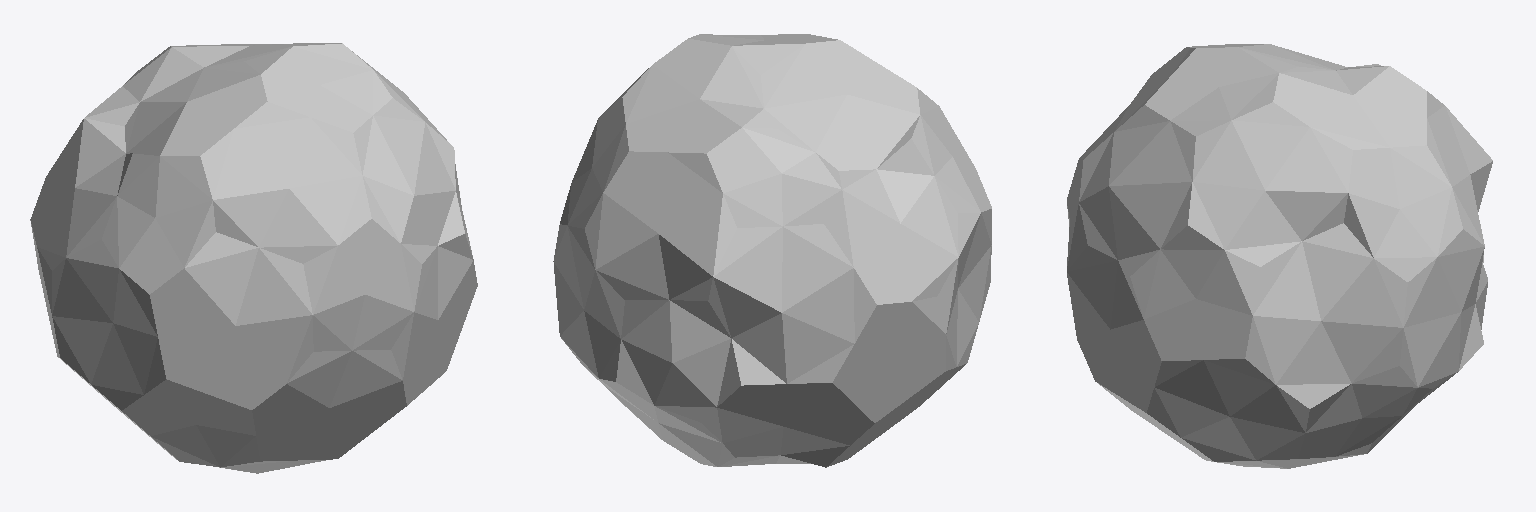
File: planet 4.obj
The picture shows the model from 3 angles: view 1: azimuth 30°, elevation 25°; view 2: azimuth 150°, elevation 25°; view 3: azimuth 270°, elevation 25°; orthographic projection.
Visible parts, largest first — view 1: pSolid2; view 2: pSolid2; view 3: pSolid2.
Boxes of the visible parts, box(x1,y1,x2,y2) form: pSolid2: box(30, 43, 477, 473); pSolid2: box(553, 34, 991, 467); pSolid2: box(1067, 44, 1492, 468).
Size of the model in its own units: 286 by 287 by 277.